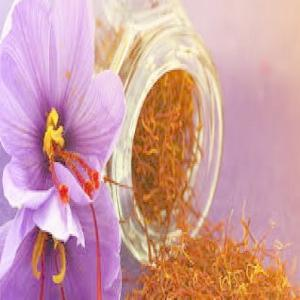Saffron: (1, 0, 126, 230), (0, 178, 125, 300)
